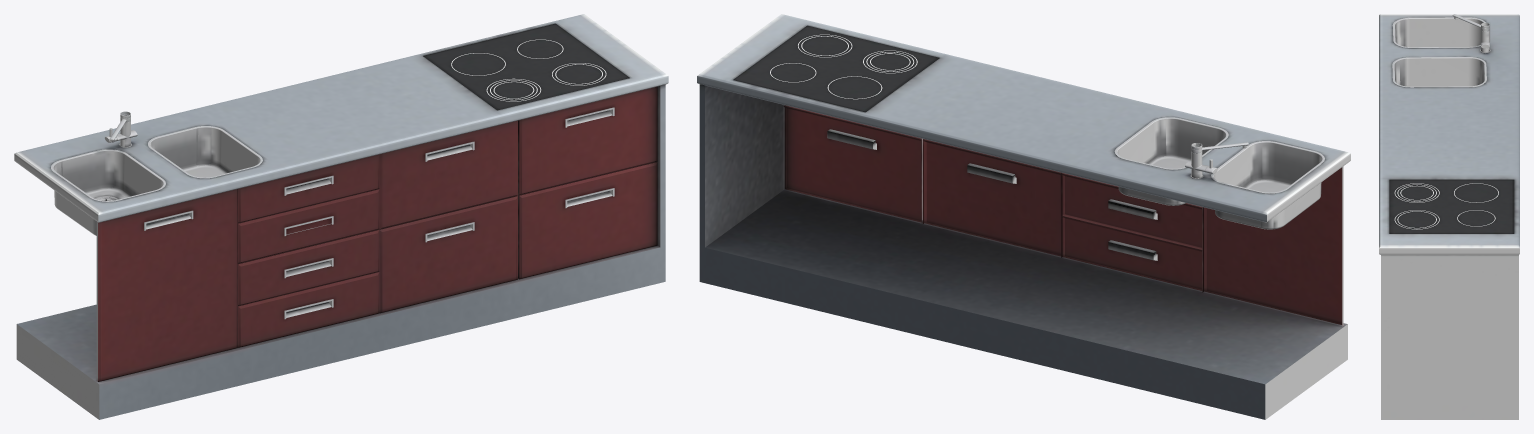
File: kitchen.dae
The picture shows the model from 3 angles, left to right: view 1: azimuth 30°, elevation 25°; view 2: azimuth 150°, elevation 25°; view 3: azimuth 270°, elevation 25°; orthographic projection. The views are drawn at different scales.
Visible parts, largest first — view 1: cook_006_13; view 2: cook_006_13; view 3: cook_006_13.
Part boxes in pixels (x1,y1,x2,y2): cook_006_13: (14,14,668,419); cook_006_13: (697,14,1350,419); cook_006_13: (1379,14,1519,419).
Size of the model in its own units: 25.14 by 10.06 by 6.41.
